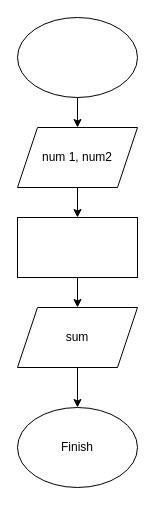
Image size: 155x505. Some labels were removed from this diagram. Here are the shapes that lost their labels. From the top down, the box of each, then its label:
(16, 16, 138, 98): Start
(16, 216, 138, 278): sum = num1 * num2
